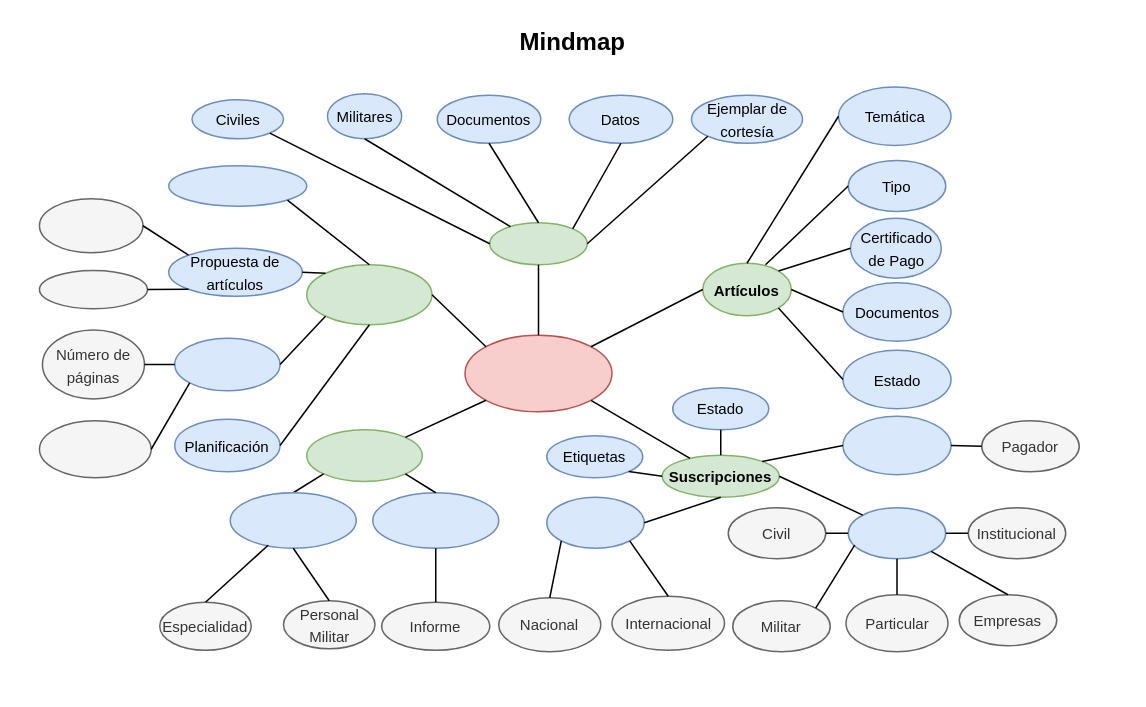
Some shapes in this 1146 by 707 pixel diagram are drawn without their labels. Here are the shapes that lost their labels. From the top down, the centre of each, then its label:
At (237,185): "Secciones".
At (90,225): "Aceptados".
At (537,243): "Autores".
At (92,289): "Reserva".
At (368,294): "Numero de Revista".
At (226,364): "Extensión".
At (538,373): "Revista".
At (94,448): "Número de caracteres".
At (363,455): "Evaluaciones".
At (896,445): "Datos de facturación".
At (292,519): "Consejero".
At (435,519): "Nº de Evaluaciones".
At (594,522): "Destinatario".
At (896,532): "Suscriptor".
